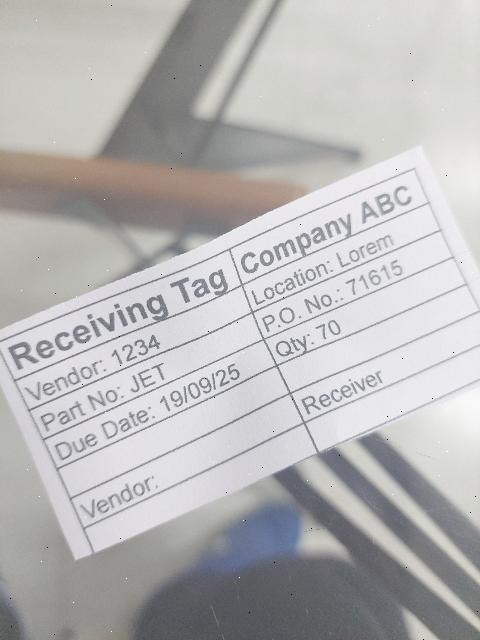PO no: (251, 232, 453, 342)
part no: (27, 313, 262, 440)
qty: (263, 256, 468, 368)
tags: (0, 148, 480, 565)
